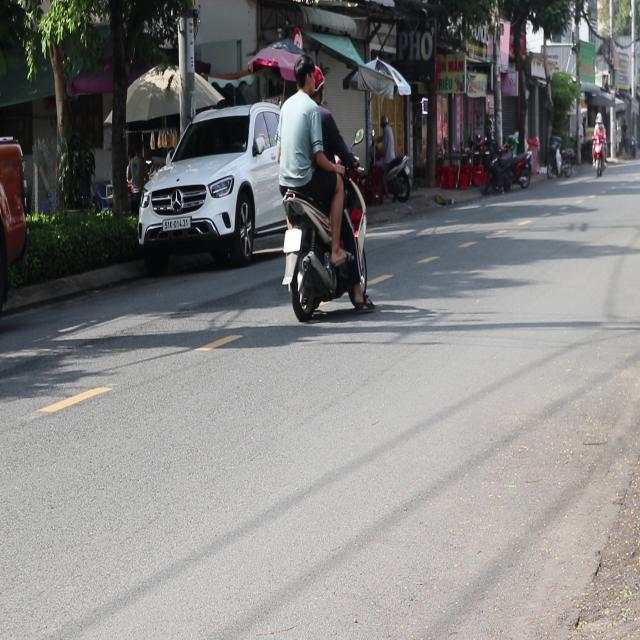helmet: (308, 62, 326, 103)
licenseplate: (274, 54, 371, 320)
motorcyclist: (292, 56, 312, 97)
nohelmet: (283, 228, 301, 250)
